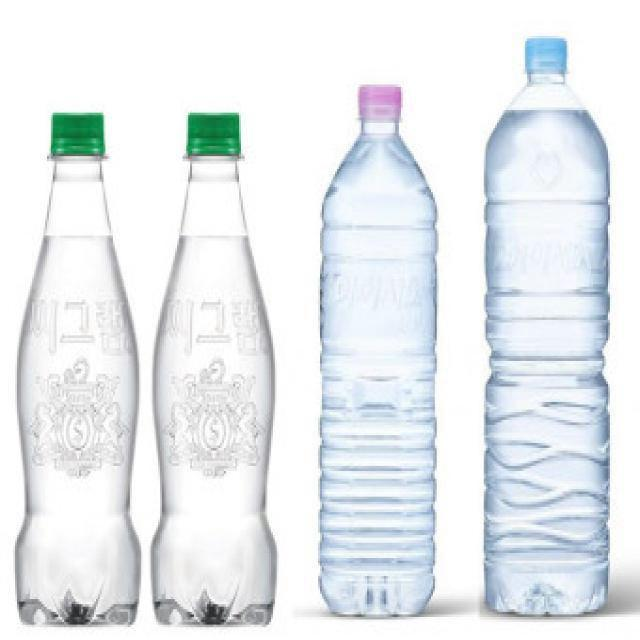bottle: (480, 36, 612, 617), (15, 115, 143, 625), (316, 84, 437, 617), (153, 113, 277, 625)
